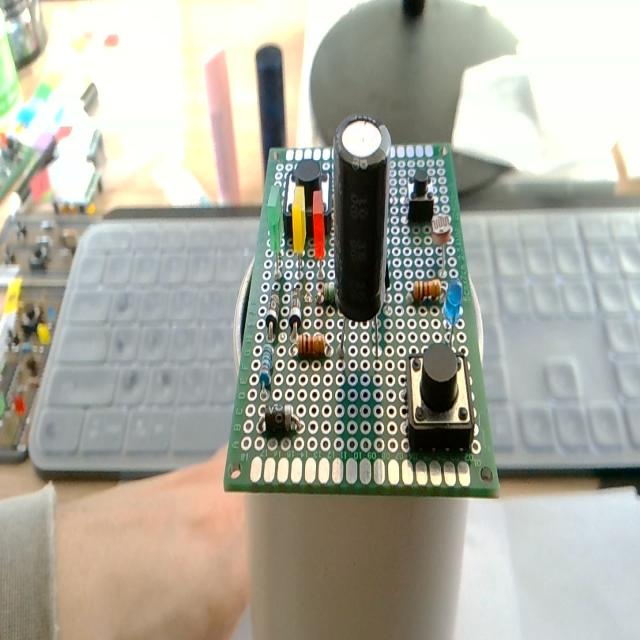Electrolytic capacitor: (325, 108, 399, 366)
cds: (424, 206, 456, 263)
diode: (259, 394, 298, 442), (260, 279, 280, 342), (288, 283, 304, 345)
led: (261, 180, 287, 286), (286, 182, 312, 284), (307, 188, 331, 292), (441, 253, 463, 339)
resistor: (399, 276, 447, 310), (296, 331, 332, 360), (258, 342, 276, 398)
switch: (403, 164, 437, 228)
